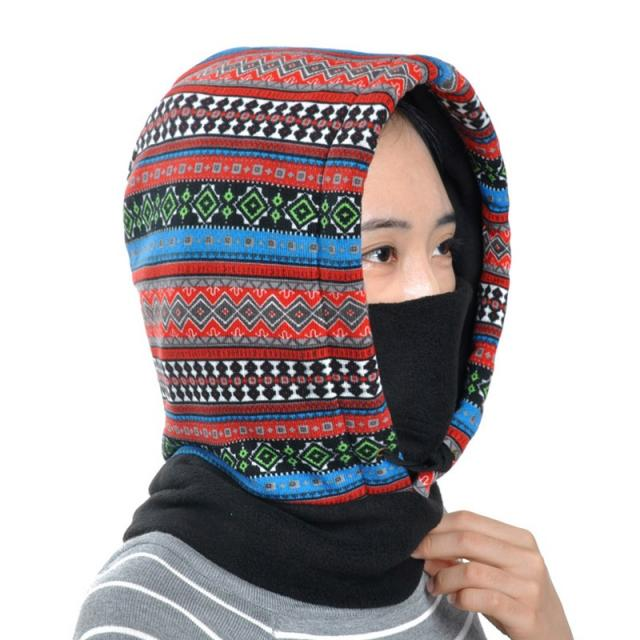mask: (240, 114, 460, 453)
